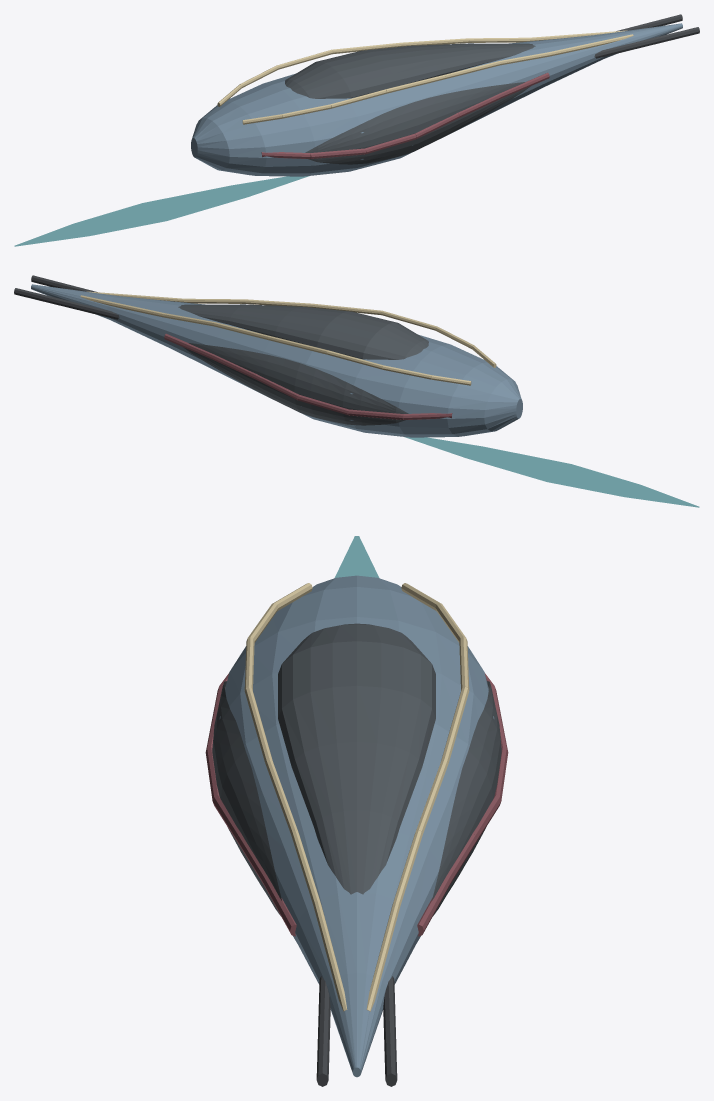
Rendered from niruch_blue_flight.glb.
The picture shows the model from 3 angles, top to bottom: view 1: azimuth 30°, elevation 25°; view 2: azimuth 150°, elevation 25°; view 3: azimuth 270°, elevation 25°; orthographic projection. The views are drawn at different scales.
Parts seen in each view (by area): view 1: main_hull_0, canopy_2, side_window_1, ground_wake, golden_upper_rail_3, side_sweep_4, front_fork_5; view 2: main_hull_0, canopy_2, side_window_1, ground_wake, golden_upper_rail_3, side_sweep_4, front_fork_5; view 3: main_hull_0, canopy_2, side_window_1, golden_upper_rail_3, side_sweep_4, front_fork_5, ground_wake.
Boxes of the visible parts, box(x1,y1,x2,y2) form: main_hull_0: box(191, 23, 682, 176); canopy_2: box(285, 43, 535, 98); side_window_1: box(305, 82, 530, 164); ground_wake: box(14, 176, 309, 246); golden_upper_rail_3: box(217, 30, 633, 124); side_sweep_4: box(261, 72, 549, 158); front_fork_5: box(594, 14, 699, 58); main_hull_0: box(31, 284, 522, 437); canopy_2: box(178, 304, 428, 359); side_window_1: box(183, 343, 408, 425); ground_wake: box(404, 437, 699, 507); golden_upper_rail_3: box(80, 291, 496, 385); side_sweep_4: box(164, 333, 452, 419); front_fork_5: box(14, 275, 119, 319); main_hull_0: box(219, 575, 494, 1077); canopy_2: box(278, 623, 435, 894); side_window_1: box(212, 681, 501, 915); golden_upper_rail_3: box(244, 583, 469, 1011); side_sweep_4: box(205, 673, 508, 936); front_fork_5: box(316, 976, 397, 1086); ground_wake: box(334, 536, 379, 578).
Bounding box in the file's own units: 11.08 × 1.6 × 2.15.
